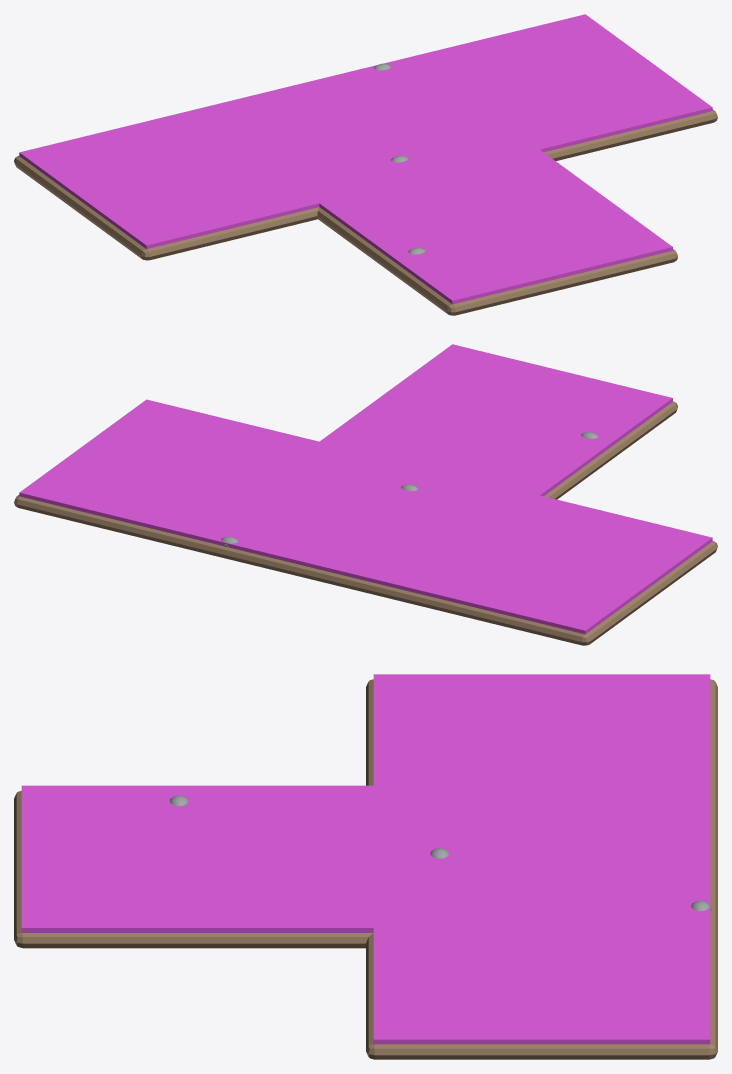
3 renders of one model, top to bottom at view 1: azimuth 30°, elevation 25°; view 2: azimuth 150°, elevation 25°; view 3: azimuth 270°, elevation 25°, orthographic. The views are drawn at different scales.
Parts seen in each view (by area): view 1: NAV_MASK_FOREST_PATH_DIRT_T_BAR, NAV_MASK_FOREST_PATH_DIRT_T_STEM, LOD1_FOREST_PATH_DIRT_T_Bar, LOD1_FOREST_PATH_DIRT_T_Stem; view 2: NAV_MASK_FOREST_PATH_DIRT_T_BAR, NAV_MASK_FOREST_PATH_DIRT_T_STEM, LOD1_FOREST_PATH_DIRT_T_Bar, LOD1_FOREST_PATH_DIRT_T_Stem; view 3: NAV_MASK_FOREST_PATH_DIRT_T_BAR, NAV_MASK_FOREST_PATH_DIRT_T_STEM, LOD1_FOREST_PATH_DIRT_T_Bar, LOD1_FOREST_PATH_DIRT_T_Stem.
Part boxes in pixels (bbox=[...]): NAV_MASK_FOREST_PATH_DIRT_T_BAR: bbox=[19, 14, 712, 249]; NAV_MASK_FOREST_PATH_DIRT_T_STEM: bbox=[259, 105, 672, 304]; LOD1_FOREST_PATH_DIRT_T_Bar: bbox=[14, 109, 717, 260]; LOD1_FOREST_PATH_DIRT_T_Stem: bbox=[317, 207, 677, 315]; NAV_MASK_FOREST_PATH_DIRT_T_BAR: bbox=[19, 399, 712, 634]; NAV_MASK_FOREST_PATH_DIRT_T_STEM: bbox=[259, 344, 672, 539]; LOD1_FOREST_PATH_DIRT_T_Bar: bbox=[14, 495, 717, 645]; LOD1_FOREST_PATH_DIRT_T_Stem: bbox=[544, 401, 677, 499]; NAV_MASK_FOREST_PATH_DIRT_T_BAR: bbox=[373, 674, 710, 1044]; NAV_MASK_FOREST_PATH_DIRT_T_STEM: bbox=[21, 785, 534, 932]; LOD1_FOREST_PATH_DIRT_T_Bar: bbox=[366, 679, 717, 1059]; LOD1_FOREST_PATH_DIRT_T_Stem: bbox=[14, 791, 372, 948].
Size of what is drawn, in the model's own units: 8 by 0.24 by 6.4.
